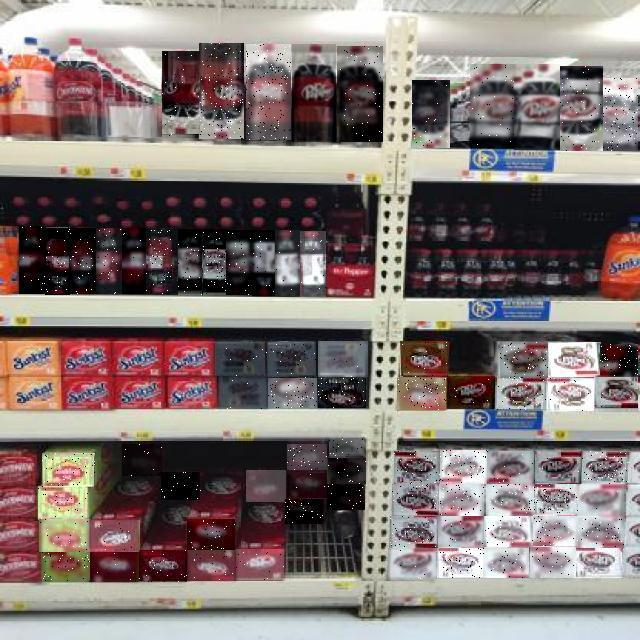Drinks: (337, 47, 383, 143), (246, 45, 291, 141), (199, 43, 244, 139), (292, 44, 336, 142), (514, 64, 560, 150), (470, 64, 516, 148), (560, 66, 603, 151), (162, 52, 200, 138), (604, 78, 640, 151), (413, 80, 451, 148), (548, 342, 601, 378), (69, 228, 97, 294), (42, 453, 95, 487), (266, 342, 316, 378), (318, 341, 368, 377), (20, 226, 46, 294), (216, 341, 264, 377), (401, 341, 449, 377), (500, 342, 548, 378), (96, 229, 122, 295), (146, 229, 172, 295), (300, 231, 326, 297), (45, 227, 70, 295), (38, 486, 88, 520), (226, 230, 252, 295), (217, 376, 268, 409), (39, 519, 90, 552), (203, 230, 228, 296), (275, 230, 300, 296), (578, 482, 626, 516), (89, 520, 140, 552), (440, 450, 488, 484), (496, 378, 546, 410), (122, 229, 146, 295), (581, 451, 629, 484), (178, 230, 202, 296), (252, 230, 276, 296), (447, 376, 495, 409), (547, 378, 595, 411), (391, 516, 439, 549), (487, 451, 535, 484), (535, 451, 583, 484), (397, 378, 446, 410), (139, 550, 187, 582), (392, 484, 440, 516), (389, 548, 437, 580), (486, 484, 534, 516), (484, 516, 533, 547), (578, 515, 624, 548), (394, 451, 440, 484), (594, 378, 638, 412), (575, 547, 623, 578), (187, 519, 235, 550), (189, 550, 237, 581), (236, 549, 284, 580), (440, 484, 486, 516), (268, 378, 317, 408), (90, 552, 139, 582), (319, 378, 367, 408), (42, 552, 90, 582), (530, 547, 576, 578), (439, 516, 485, 547), (483, 548, 529, 578), (533, 516, 579, 546), (437, 548, 483, 578), (600, 345, 638, 381), (534, 484, 578, 514), (123, 444, 163, 476), (246, 470, 286, 502), (162, 472, 202, 500), (287, 445, 327, 471), (287, 473, 327, 498), (286, 499, 326, 524), (328, 458, 366, 484), (327, 484, 365, 510), (330, 440, 366, 458)
